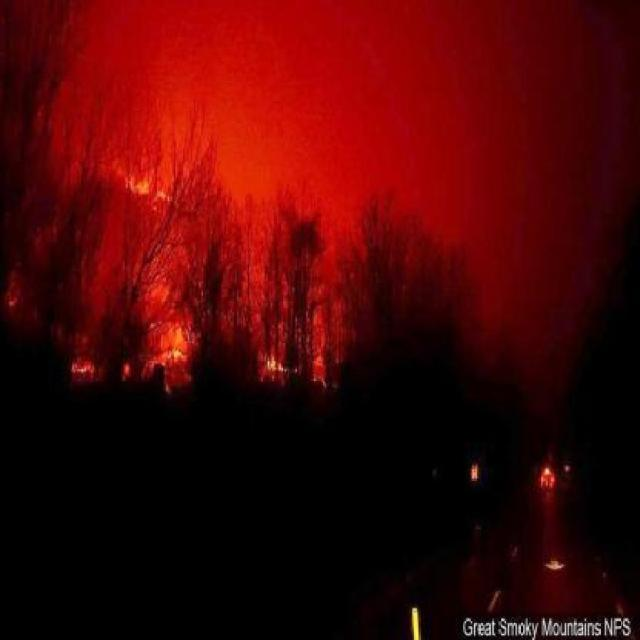Fire: (142, 340, 192, 394), (124, 179, 180, 212), (253, 347, 298, 382), (71, 356, 95, 378), (471, 462, 477, 480)
